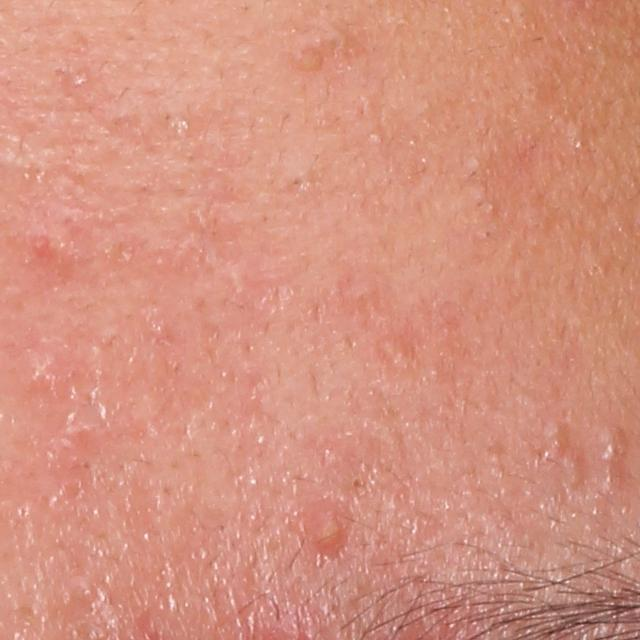comedo: (595, 437, 629, 464), (542, 418, 568, 446), (351, 473, 366, 488)
pustule: (312, 505, 351, 553)
